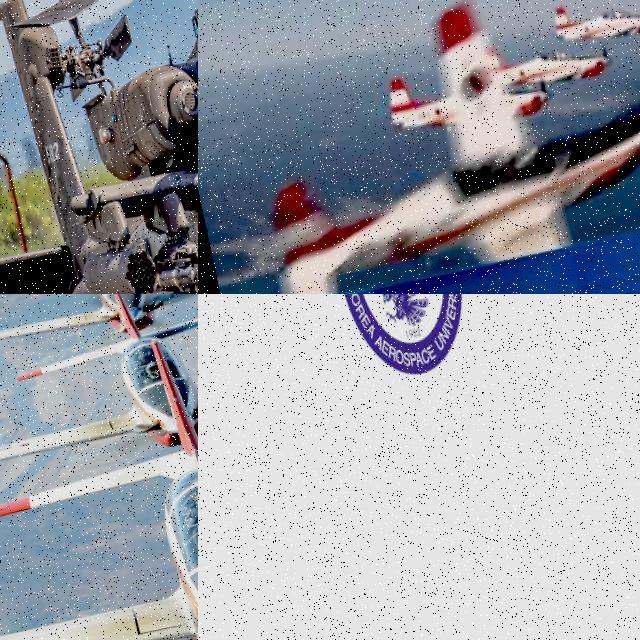Apache: (0, 0, 198, 294)
KAU_Marker: (317, 294, 481, 389)
KT-1: (220, 0, 640, 294), (0, 294, 198, 640), (0, 294, 198, 509), (376, 42, 558, 154), (0, 294, 198, 382), (460, 24, 612, 104), (546, 0, 640, 62)
